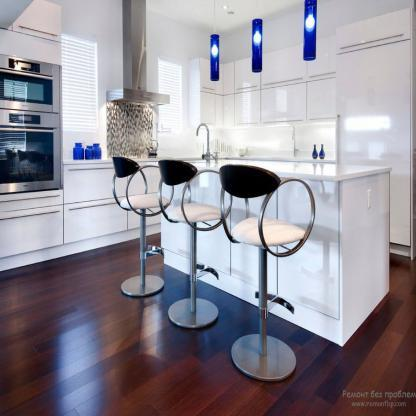chair: (219, 154, 315, 392), (155, 152, 234, 329), (102, 150, 162, 298)
light: (205, 0, 225, 92), (248, 2, 269, 78), (302, 0, 316, 70)
table: (160, 147, 399, 346)
